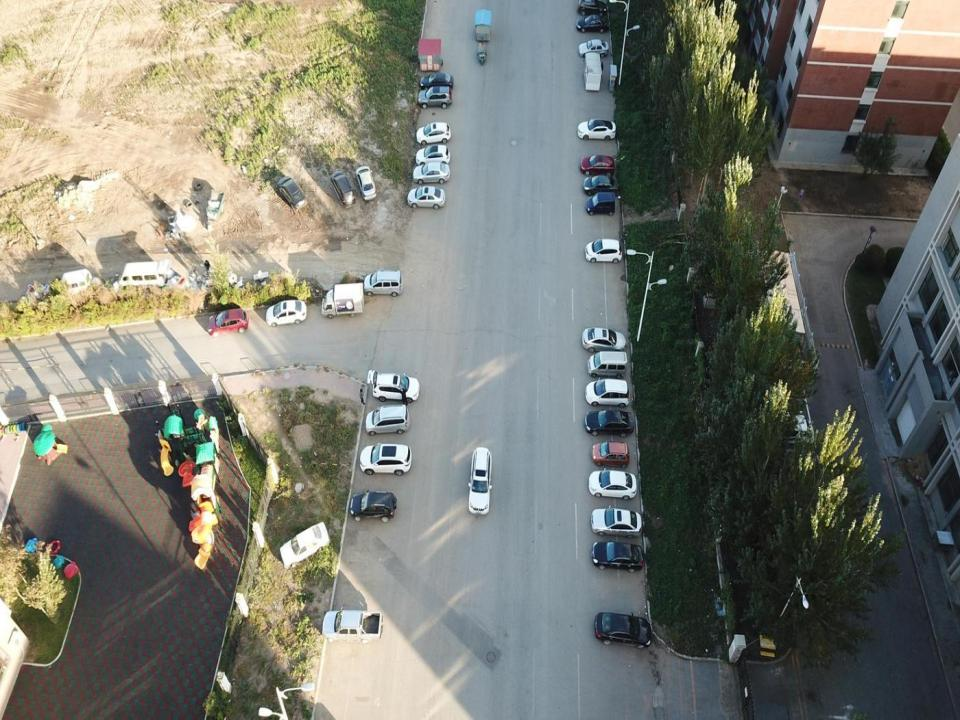car: (279, 523, 331, 570), (592, 610, 653, 649), (364, 368, 420, 403), (358, 443, 412, 475), (590, 507, 644, 538), (468, 447, 492, 515), (591, 543, 643, 572), (350, 490, 397, 520), (586, 409, 636, 436), (587, 471, 635, 499), (366, 406, 408, 436), (586, 378, 628, 408), (581, 327, 625, 355), (591, 440, 631, 469), (276, 175, 307, 211), (330, 170, 356, 210), (208, 310, 248, 336), (266, 302, 308, 326), (577, 117, 615, 142), (408, 186, 446, 210), (364, 271, 402, 295), (415, 121, 450, 146), (412, 162, 451, 184), (418, 85, 452, 110), (355, 166, 377, 202), (586, 241, 620, 264), (580, 157, 615, 179), (584, 176, 618, 198), (414, 147, 449, 168), (586, 192, 616, 216), (577, 12, 613, 31), (421, 72, 453, 93), (580, 40, 610, 59)
truck: (321, 608, 382, 642), (321, 282, 365, 320)
van: (117, 260, 163, 290), (588, 349, 628, 377), (57, 271, 92, 295)
